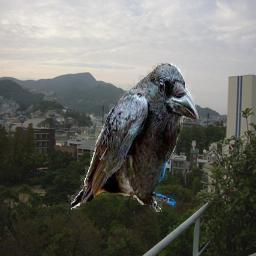Crow: (69, 63, 199, 212)
